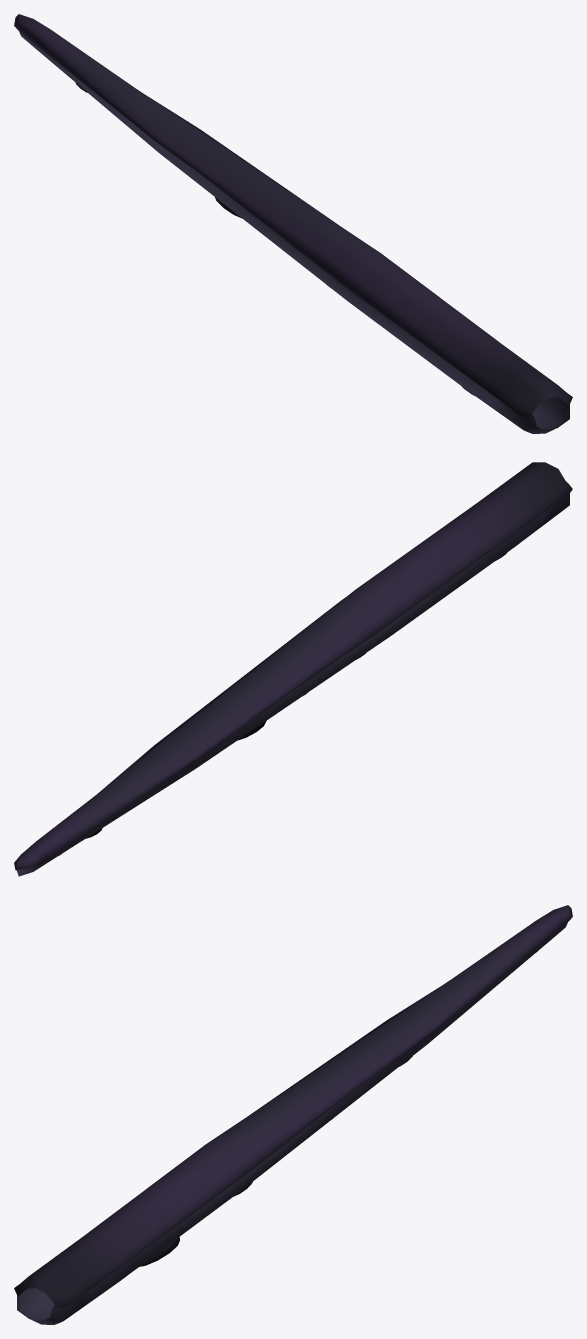
The model's file is TentaculoFino.fbx.
The picture shows the model from 3 angles, top to bottom: view 1: azimuth 30°, elevation 25°; view 2: azimuth 150°, elevation 25°; view 3: azimuth 330°, elevation 25°; orthographic projection.
Parts seen in each view (by area): view 1: Invoker.002; view 2: Invoker.002; view 3: Invoker.002.
Boxes of the visible parts, x1=… form: Invoker.002: x1=14, y1=14, x2=572, y2=433; Invoker.002: x1=14, y1=462, x2=572, y2=876; Invoker.002: x1=14, y1=905, x2=572, y2=1324.
Size of the model in its own units: 87.9 by 82.67 by 1442.
